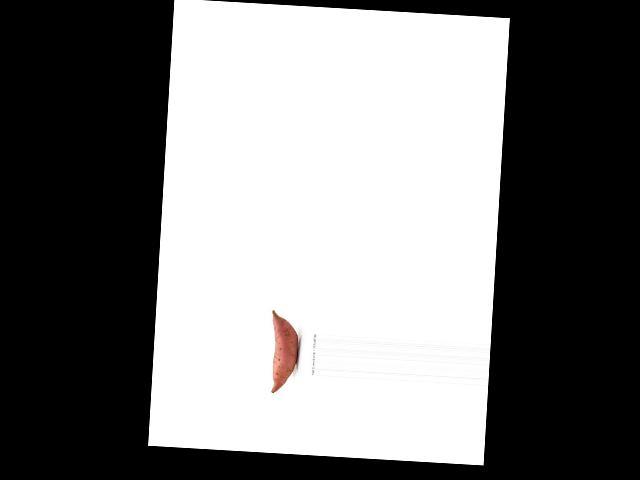sweet_potato: (263, 309, 301, 395)
